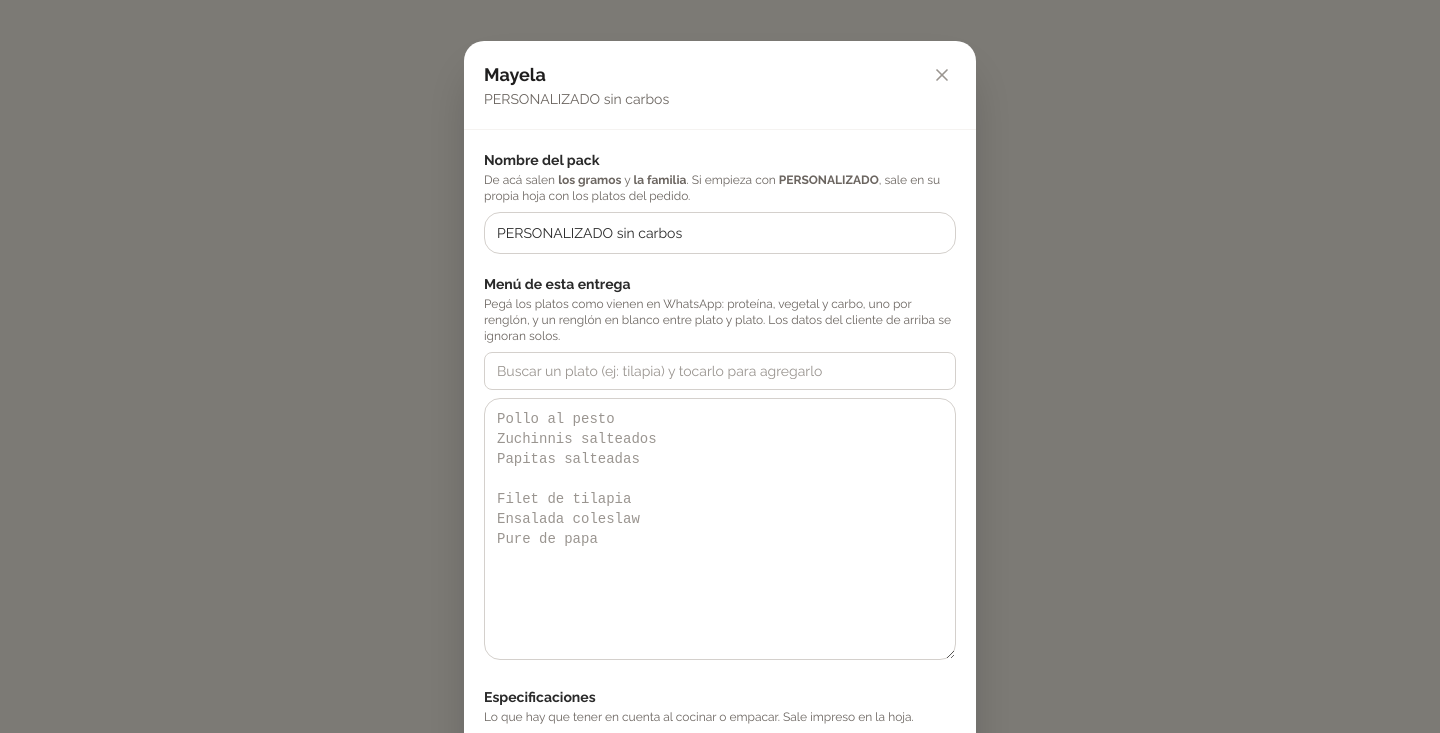
Test: menú de un personalizado › buscar un plato lo agrega como renglón del menú
In the dropdown labelled "Buscar un plato (ej: tilapia) y tocarlo para agregarlo": (720, 370) [484,352,956,390], type "tilapia"
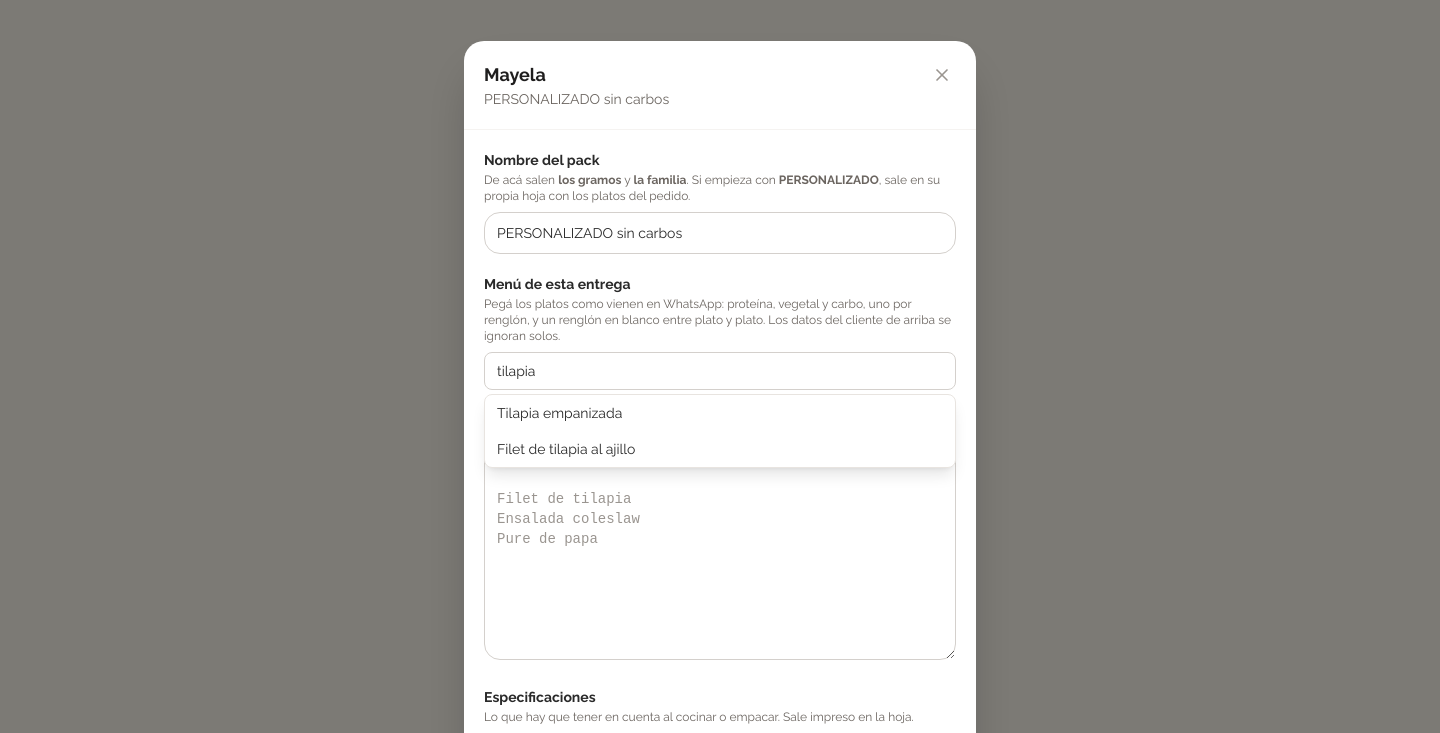
Press the mouse on the option "Filet de tilapia al ajillo": (566, 448) [497,440,636,456]
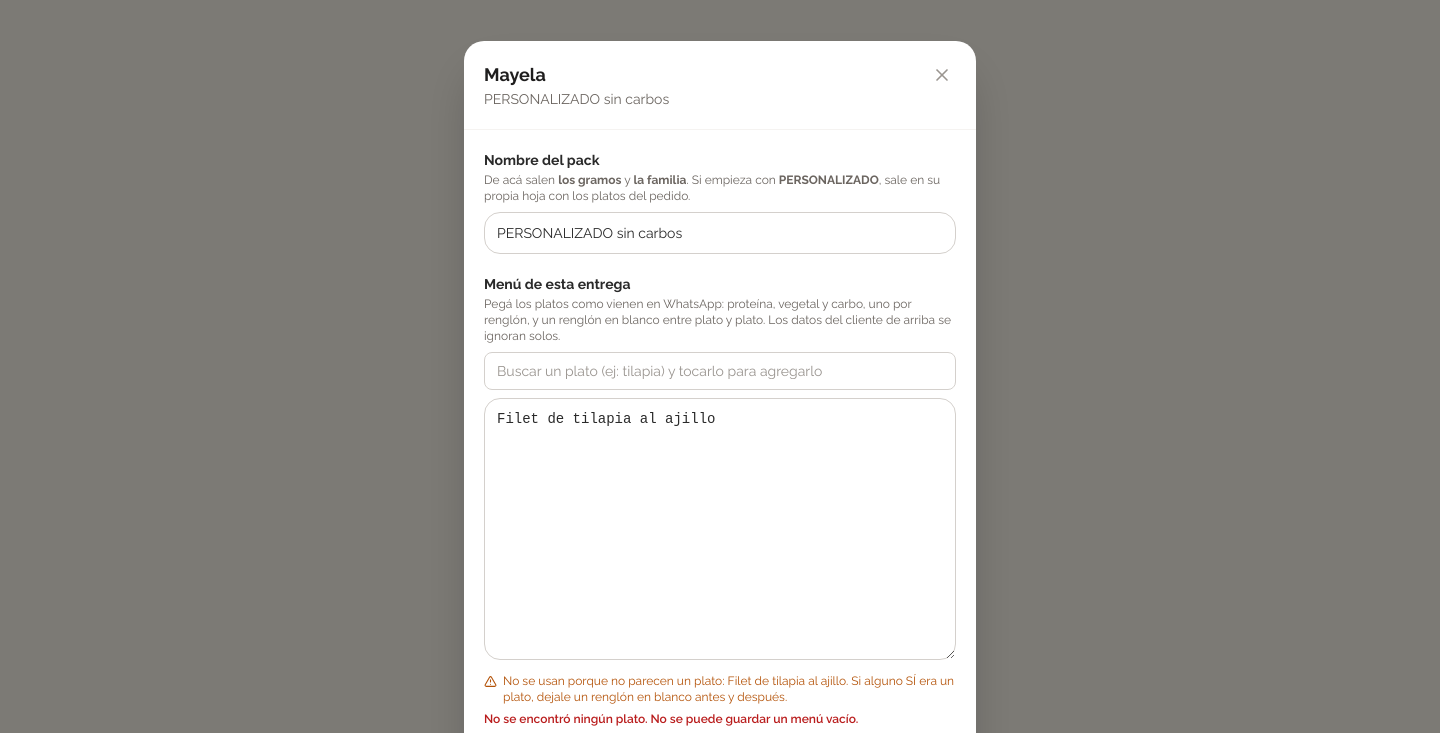
Result: the text box labelled "Menú de esta entrega" holds "Filet de tilapia al ajillo" at [484,398,956,660]
Result: the dropdown labelled "Buscar un plato (ej: tilapia) y tocarlo para agregarlo" is empty at [484,352,956,390]
